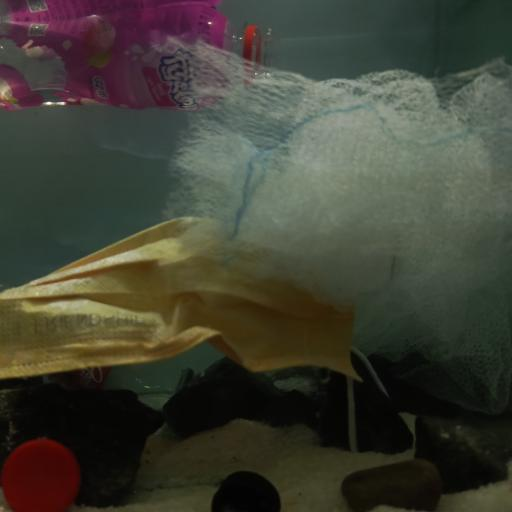bottle_cap: (0, 438, 80, 512), (212, 468, 281, 512)
mask: (0, 216, 371, 394)
net: (149, 30, 512, 408)
plastic_bottle: (0, 1, 274, 116), (42, 357, 198, 396)
